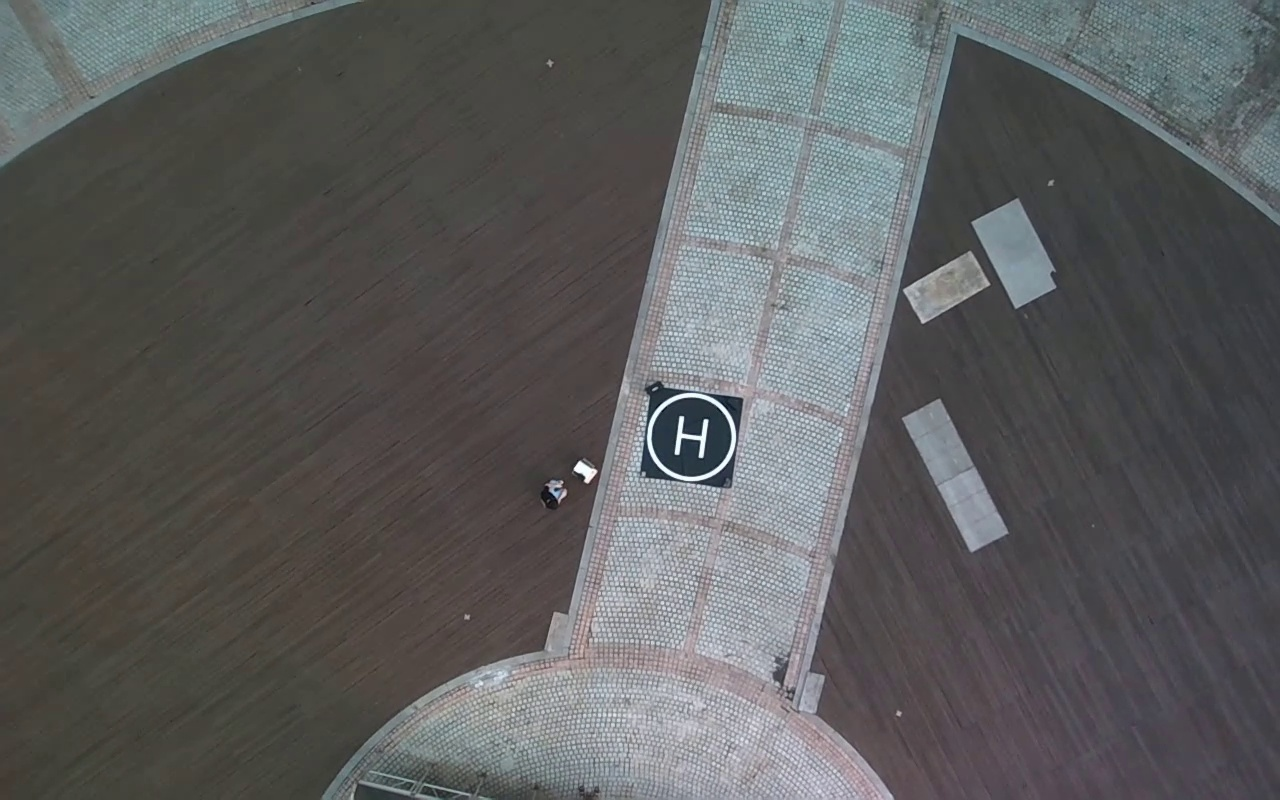H: (674, 413, 709, 461)
heliport: (647, 391, 738, 482)
